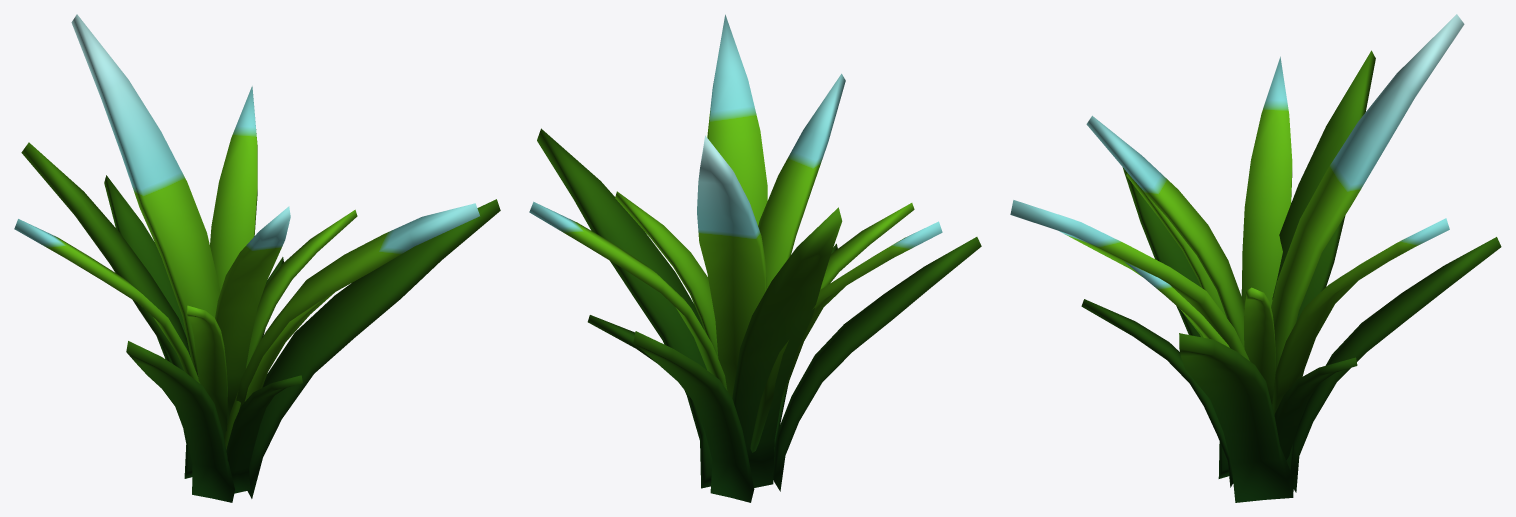
The model's file is Plant_3.fbx.
The picture shows the model from 3 angles, left to right: view 1: azimuth 30°, elevation 25°; view 2: azimuth 150°, elevation 25°; view 3: azimuth 270°, elevation 25°; orthographic projection. The views are drawn at different scales.
Visible parts, largest first — view 1: Plant_3; view 2: Plant_3; view 3: Plant_3.
Part boxes in pixels (<box>): Plant_3: <box>14,14,500,502</box>; Plant_3: <box>529,14,981,502</box>; Plant_3: <box>1010,14,1501,502</box>.
Bounding box in the file's own units: 1.09 × 1.02 × 0.9989.
